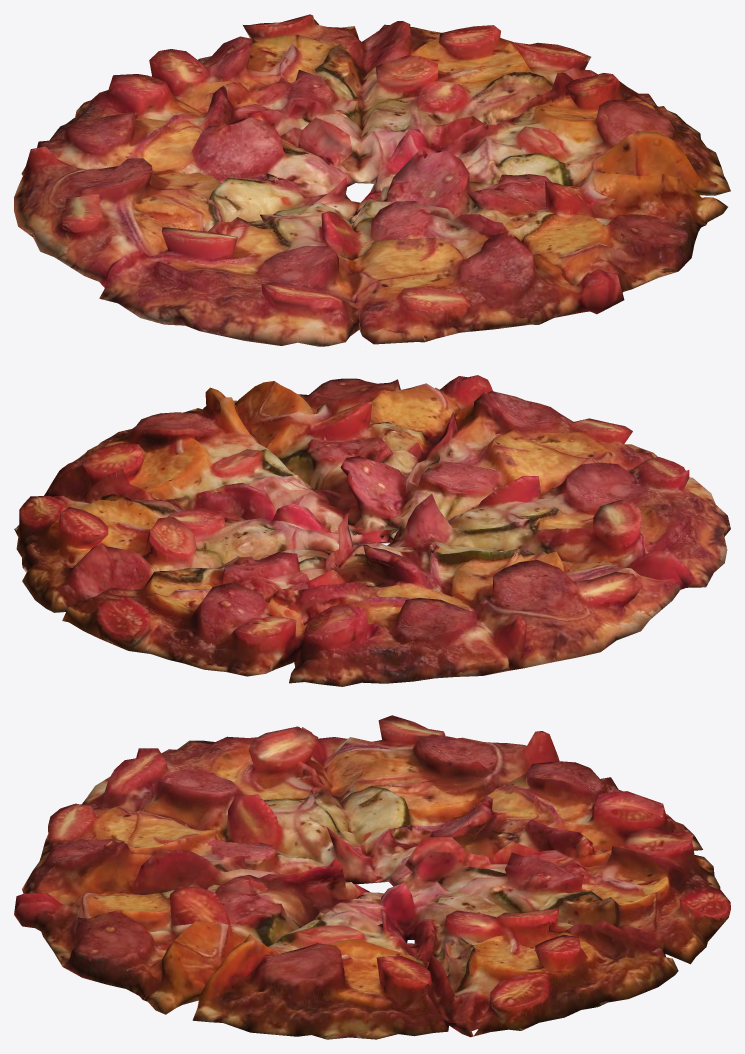
Rendered from pizza.dae.
3 renders of one model, top to bottom at view 1: azimuth 30°, elevation 25°; view 2: azimuth 150°, elevation 25°; view 3: azimuth 270°, elevation 25°, orthographic. The views are drawn at different scales.
Parts seen in each view (by area): view 1: PIZZA_5K; view 2: PIZZA_5K; view 3: PIZZA_5K.
Part boxes in pixels (<box>): PIZZA_5K: <box>14,14,730,346</box>; PIZZA_5K: <box>14,375,730,686</box>; PIZZA_5K: <box>14,715,730,1039</box>.
Size of the model in its own units: 0.3093 by 0.3135 by 0.0279.
